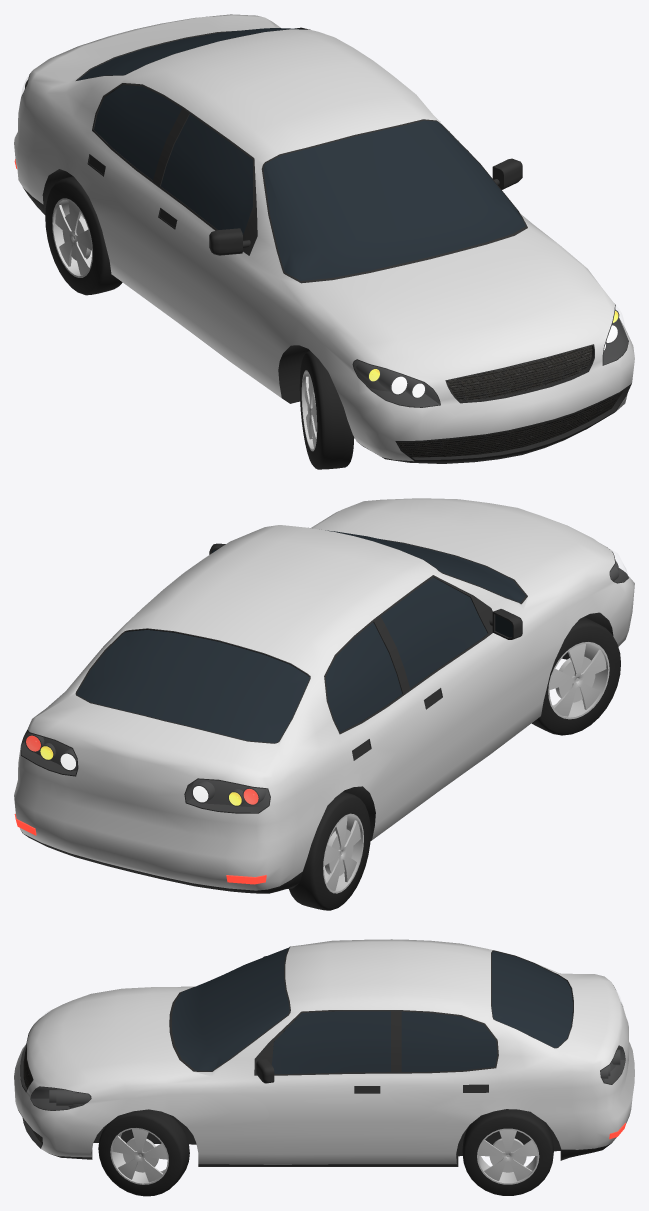
Rendered from car-3.glb.
3 views of the same model, one above another, from view 1: azimuth 30°, elevation 25°; view 2: azimuth 150°, elevation 25°; view 3: azimuth 270°, elevation 25° (orthographic). The views are drawn at different scales.
Visible parts, largest first — view 1: CarBody.003, WheelRR.001, WheelFR.001; view 2: CarBody.003, WheelFR.001, WheelRR.001; view 3: CarBody.003, WheelRL.001, WheelFL.001.
Boxes of the visible parts, left/top/right/bottom form: CarBody.003: left=14, top=14, right=634, bottom=463; WheelRR.001: left=45, top=176, right=122, bottom=295; WheelFR.001: left=299, top=351, right=354, bottom=469; CarBody.003: left=14, top=498, right=634, bottom=893; WheelFR.001: left=531, top=617, right=620, bottom=735; WheelRR.001: left=289, top=792, right=370, bottom=910; CarBody.003: left=14, top=939, right=634, bottom=1166; WheelRL.001: left=462, top=1109, right=553, bottom=1195; WheelFL.001: left=98, top=1109, right=189, bottom=1196.
Size of the model in its own units: 1.96 by 1.44 by 4.45.
10 materials, 1 textured.
